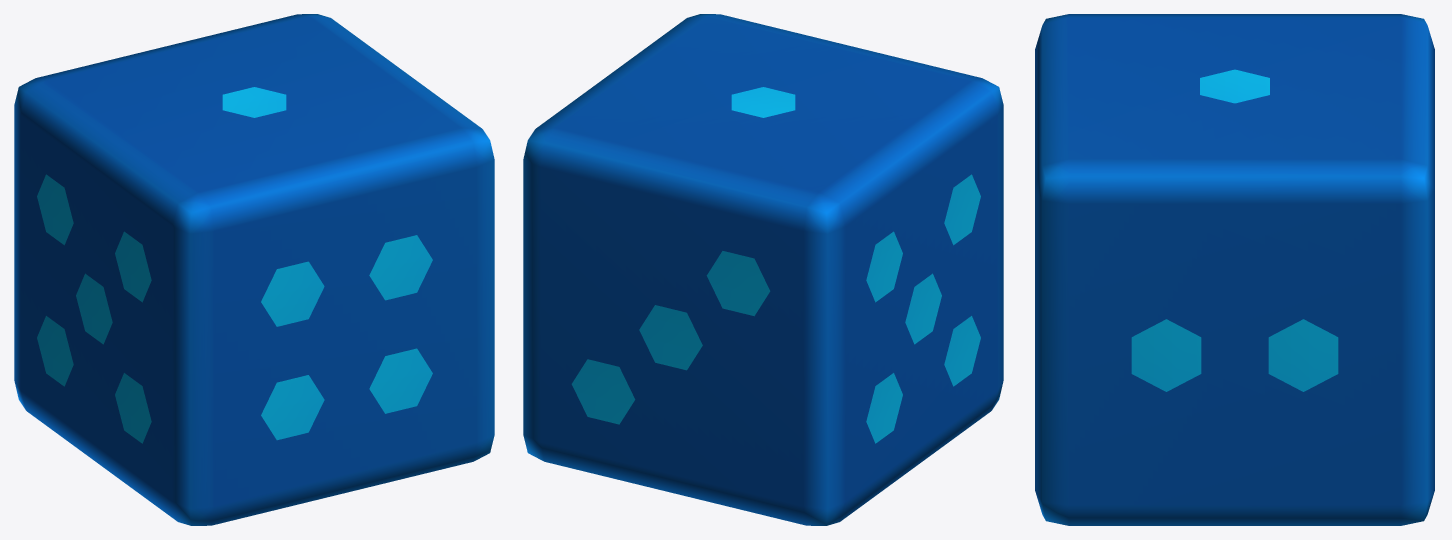
Rendered from dice_blue.glb.
The picture shows the model from 3 angles, left to right: view 1: azimuth 30°, elevation 25°; view 2: azimuth 150°, elevation 25°; view 3: azimuth 270°, elevation 25°; orthographic projection. The views are drawn at different scales.
Parts seen in each view (by area): view 1: dice_blue3; view 2: dice_blue3; view 3: dice_blue3.
Boxes of the visible parts, x1,y1,x2,y2 form: dice_blue3: [14, 14, 494, 525]; dice_blue3: [523, 14, 1003, 525]; dice_blue3: [1035, 14, 1434, 525].
Size of the model in its own units: 0.04 by 0.04 by 0.04.
Materials: 1 (1 with a texture image).
